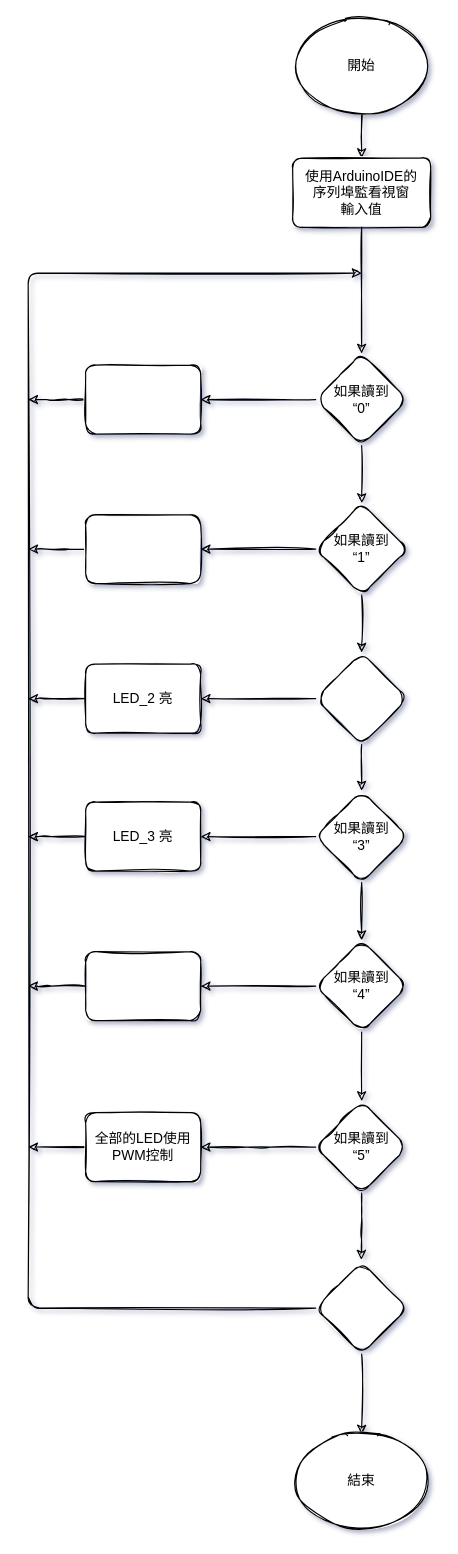
Image size: 458x1554. Some labels were removed from this diagram. Each missing label, with the centre of its shape:
LED_1 亮: the point at 143,548
LED_4亮: the point at 143,985
全部 LED直接亮暗 正反二次: the point at 143,399
如果讀到 “2”: the point at 361,698
如果讀到 其它值: the point at 361,1307
